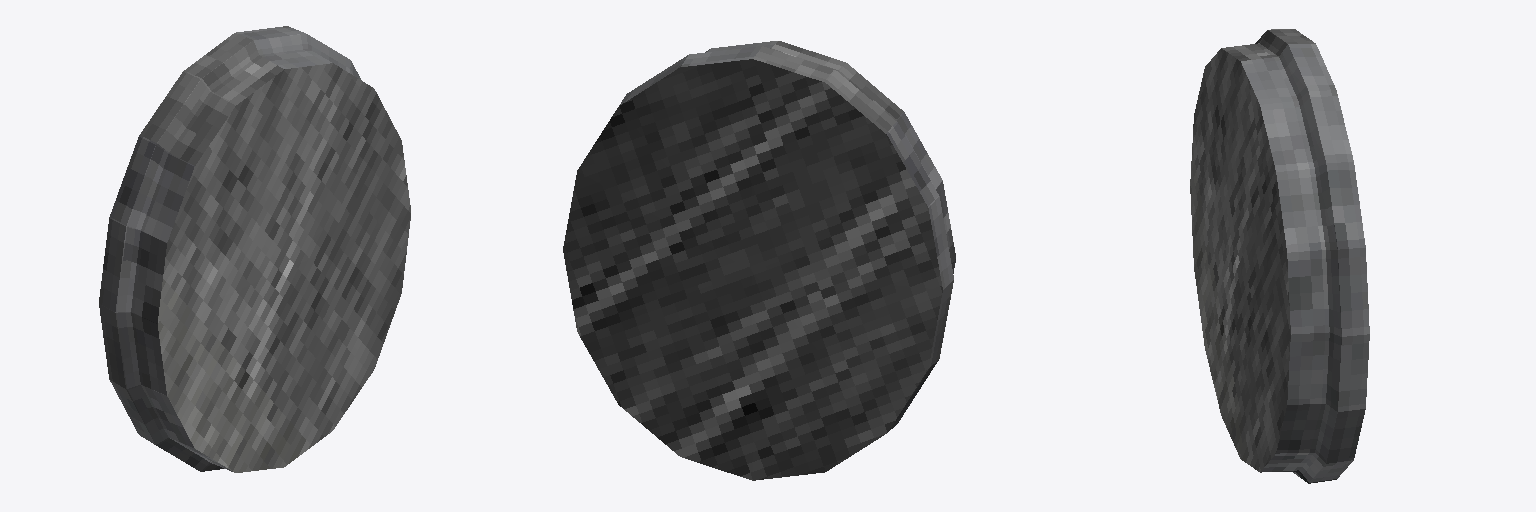
3 renders of one model, left to right at view 1: azimuth 30°, elevation 25°; view 2: azimuth 150°, elevation 25°; view 3: azimuth 270°, elevation 25°, orthographic.
Visible parts, largest first — view 1: LlantaDer6; view 2: LlantaDer6; view 3: LlantaDer6.
Boxes of the visible parts, x1,y1,x2,y2 form: LlantaDer6: [99, 26, 410, 472]; LlantaDer6: [563, 41, 955, 480]; LlantaDer6: [1190, 29, 1369, 483].
Bounding box in the file's own units: 0.2181 × 0.2666 × 0.1022.
1 materials, 1 textured.